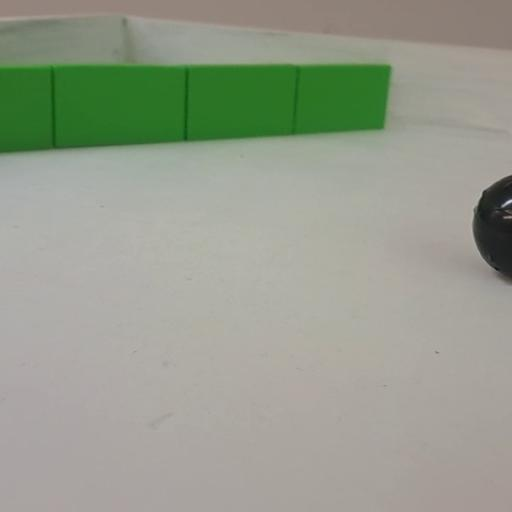dead: (470, 172, 512, 284)
